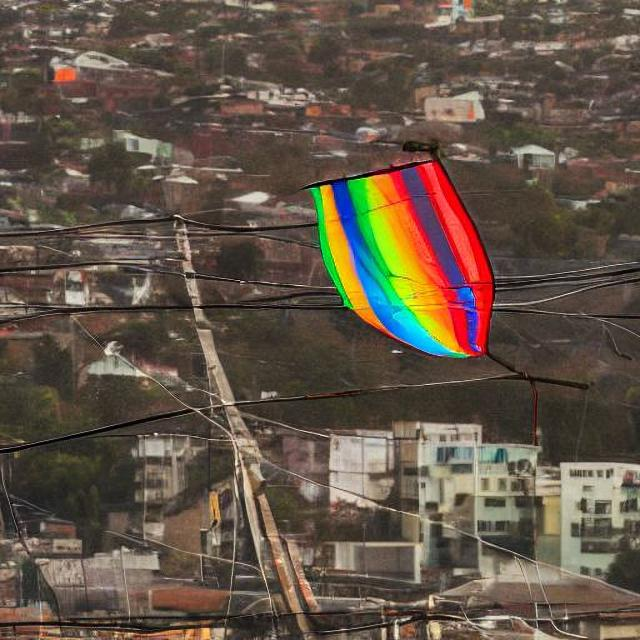floating object: (305, 156, 495, 352)
